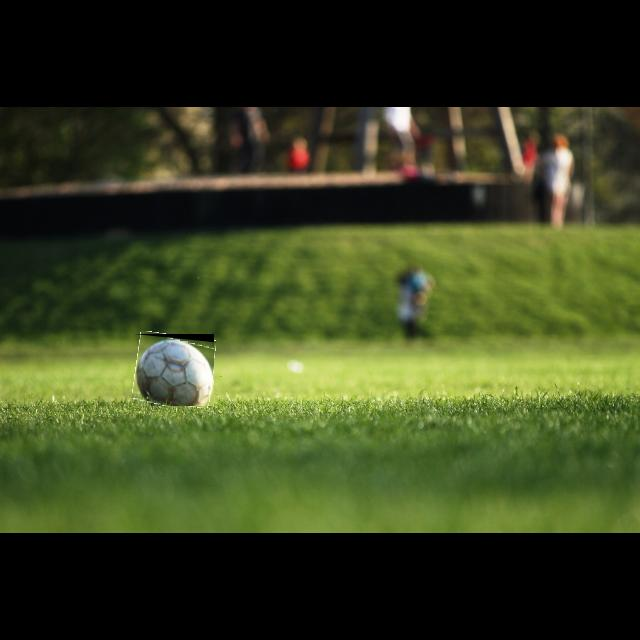Football: (134, 334, 214, 406)
